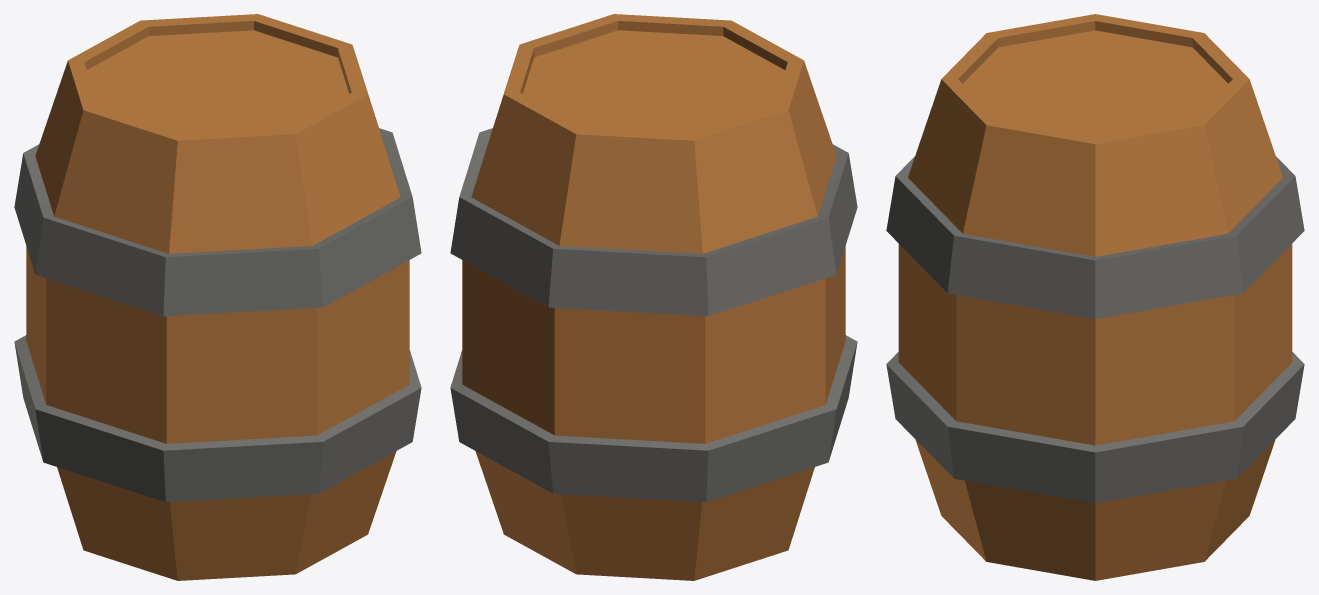
File: SM_Barrel_LO0.fbx
3 renders of one model, left to right at view 1: azimuth 30°, elevation 25°; view 2: azimuth 150°, elevation 25°; view 3: azimuth 270°, elevation 25°, orthographic.
Visible parts, largest first — view 1: SM_Barrel_LOD0; view 2: SM_Barrel_LOD0; view 3: SM_Barrel_LOD0.
Boxes of the visible parts, left/top/right/bottom form: SM_Barrel_LOD0: left=14, top=14, right=421, bottom=580; SM_Barrel_LOD0: left=450, top=14, right=857, bottom=580; SM_Barrel_LOD0: left=886, top=14, right=1304, bottom=580.
Size of the model in its own units: 2.71 by 3.13 by 2.71.
